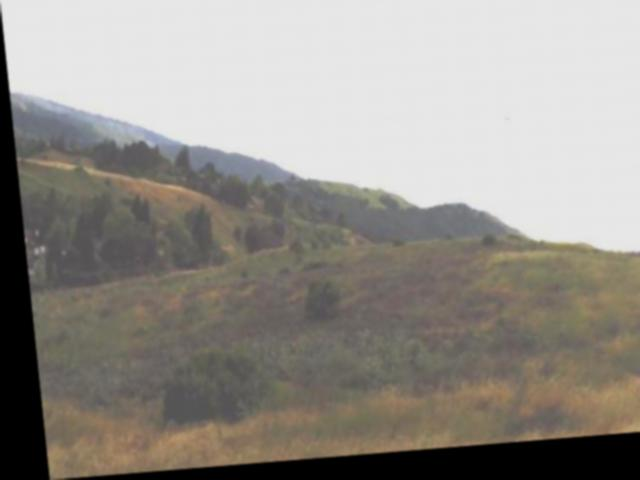iha: (488, 113, 520, 133)
